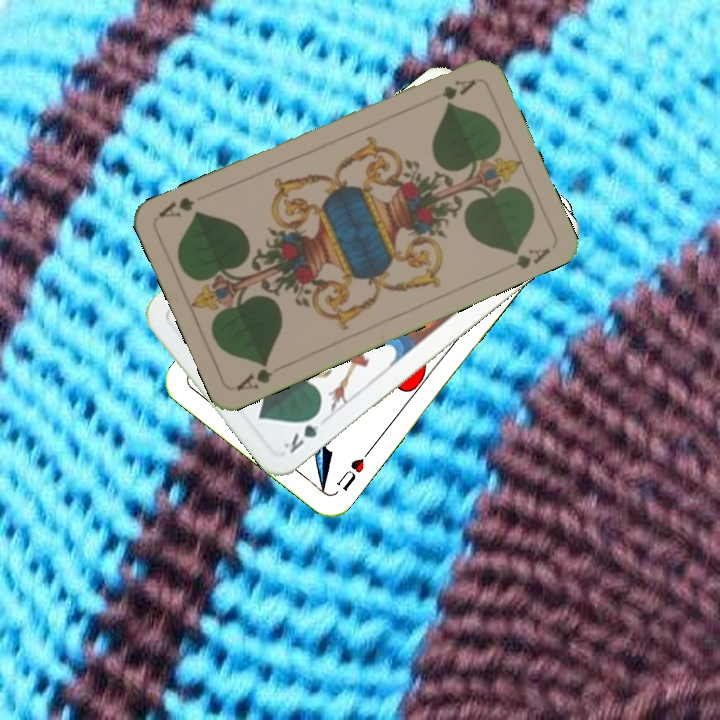GA: (422, 75, 479, 106), (232, 358, 276, 393)
GK: (279, 407, 323, 457)
HU: (332, 445, 374, 494)
